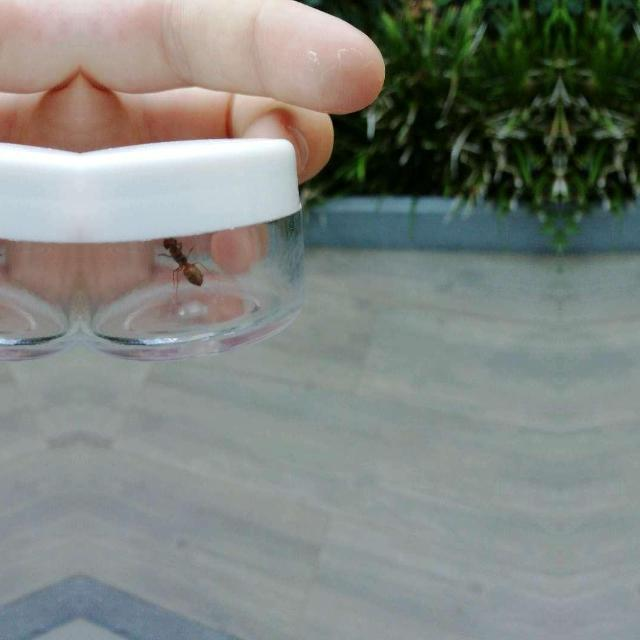Camponotus: (150, 230, 217, 288)
